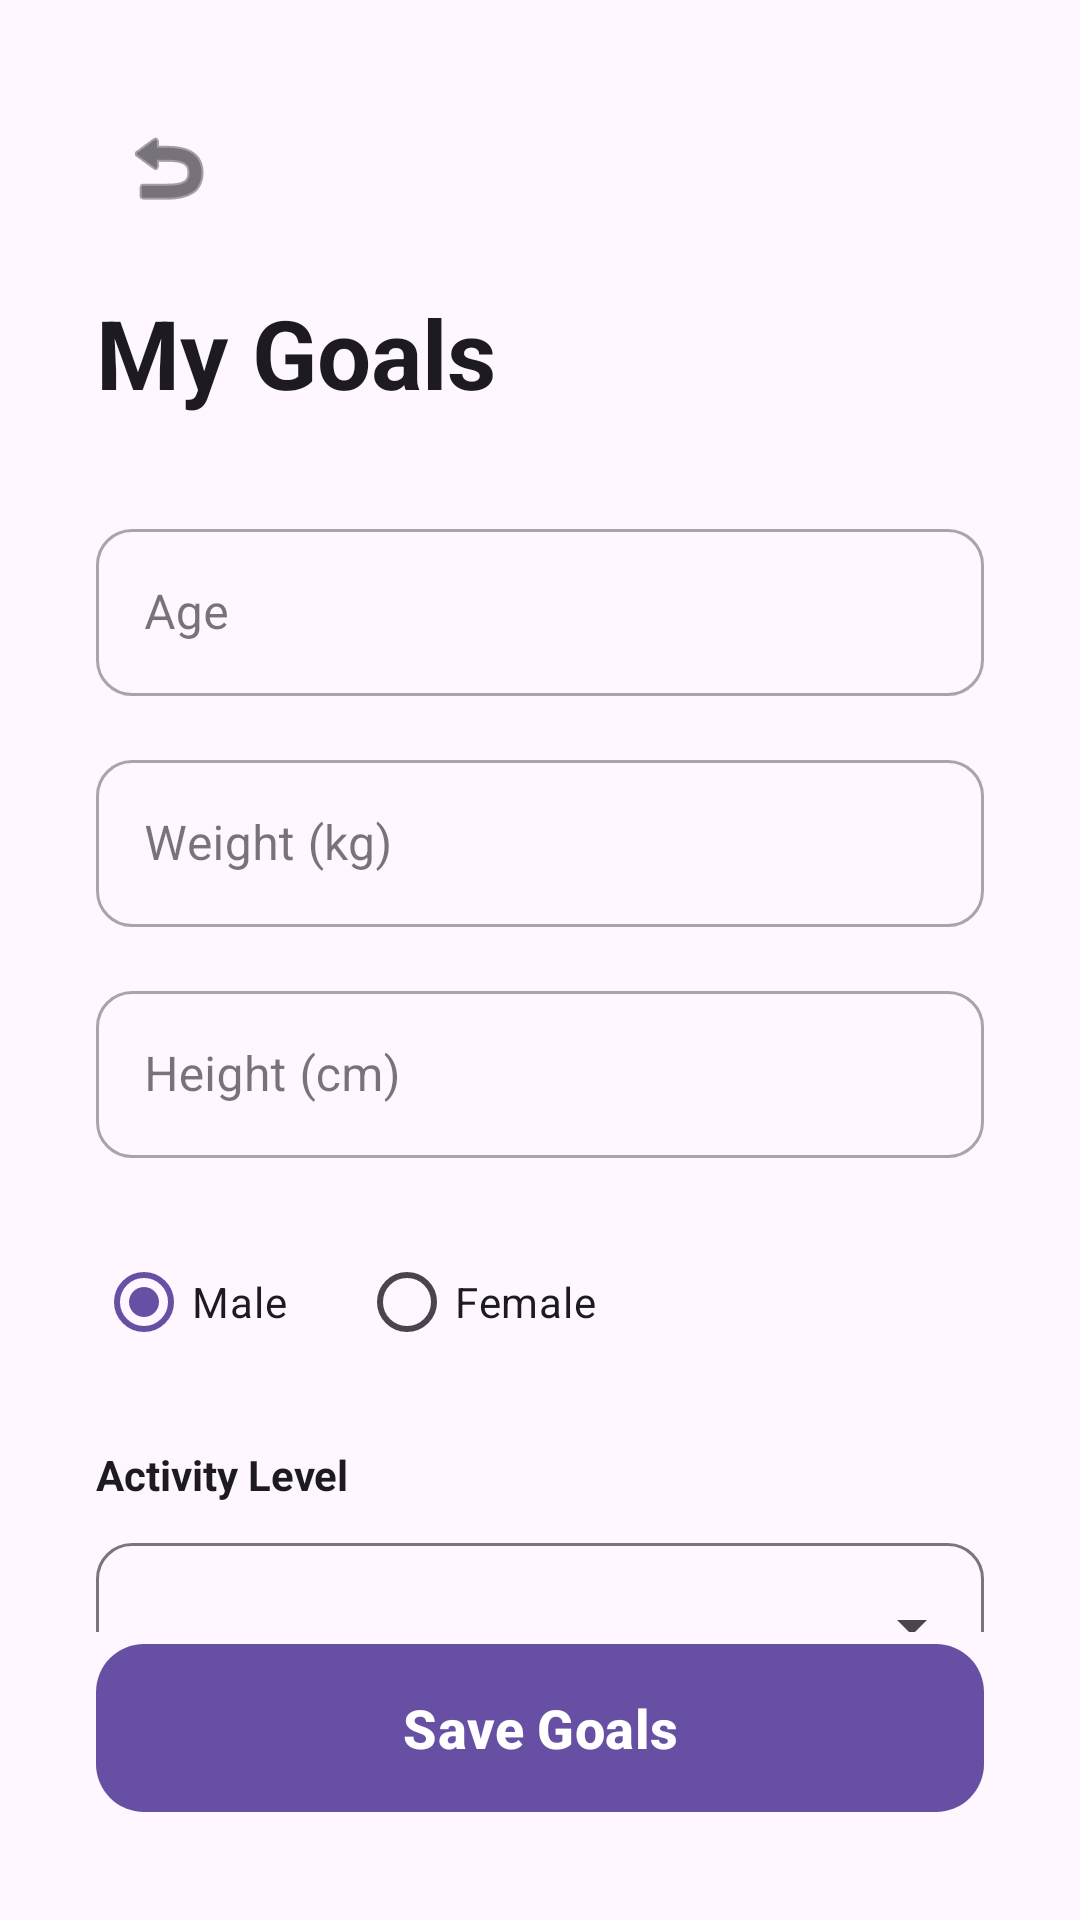

Icon bounding boxes for this 1080px×1920px phone screenshot, format Rect(x1, y1, x2, y2):
Back: Rect(135, 137, 204, 200)
